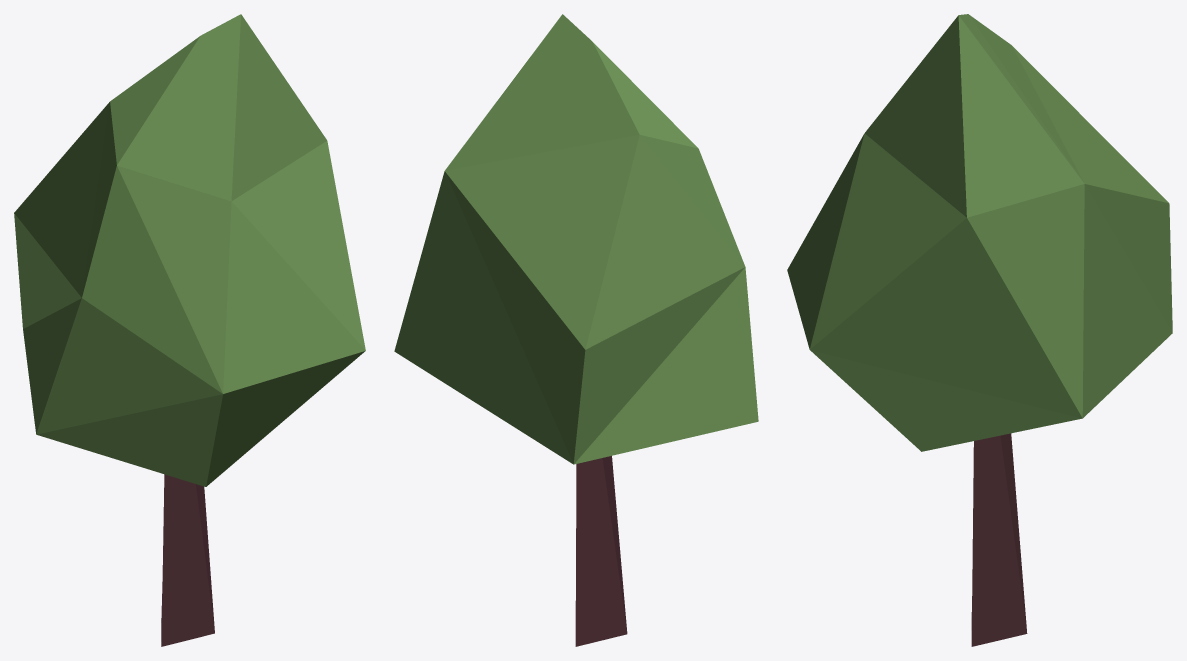
The model's file is round_tree.fbx.
3 views of the same model, side by side, from view 1: azimuth 30°, elevation 25°; view 2: azimuth 150°, elevation 25°; view 3: azimuth 270°, elevation 25° (orthographic). The views are drawn at different scales.
Visible parts, largest first — view 1: tree.006; view 2: tree.006; view 3: tree.006.
Part boxes in pixels (x1,y1,x2,y2): tree.006: (14, 14, 365, 646); tree.006: (394, 14, 758, 646); tree.006: (787, 14, 1172, 646).
Bounding box in the file's own units: 108 × 201 × 109.
